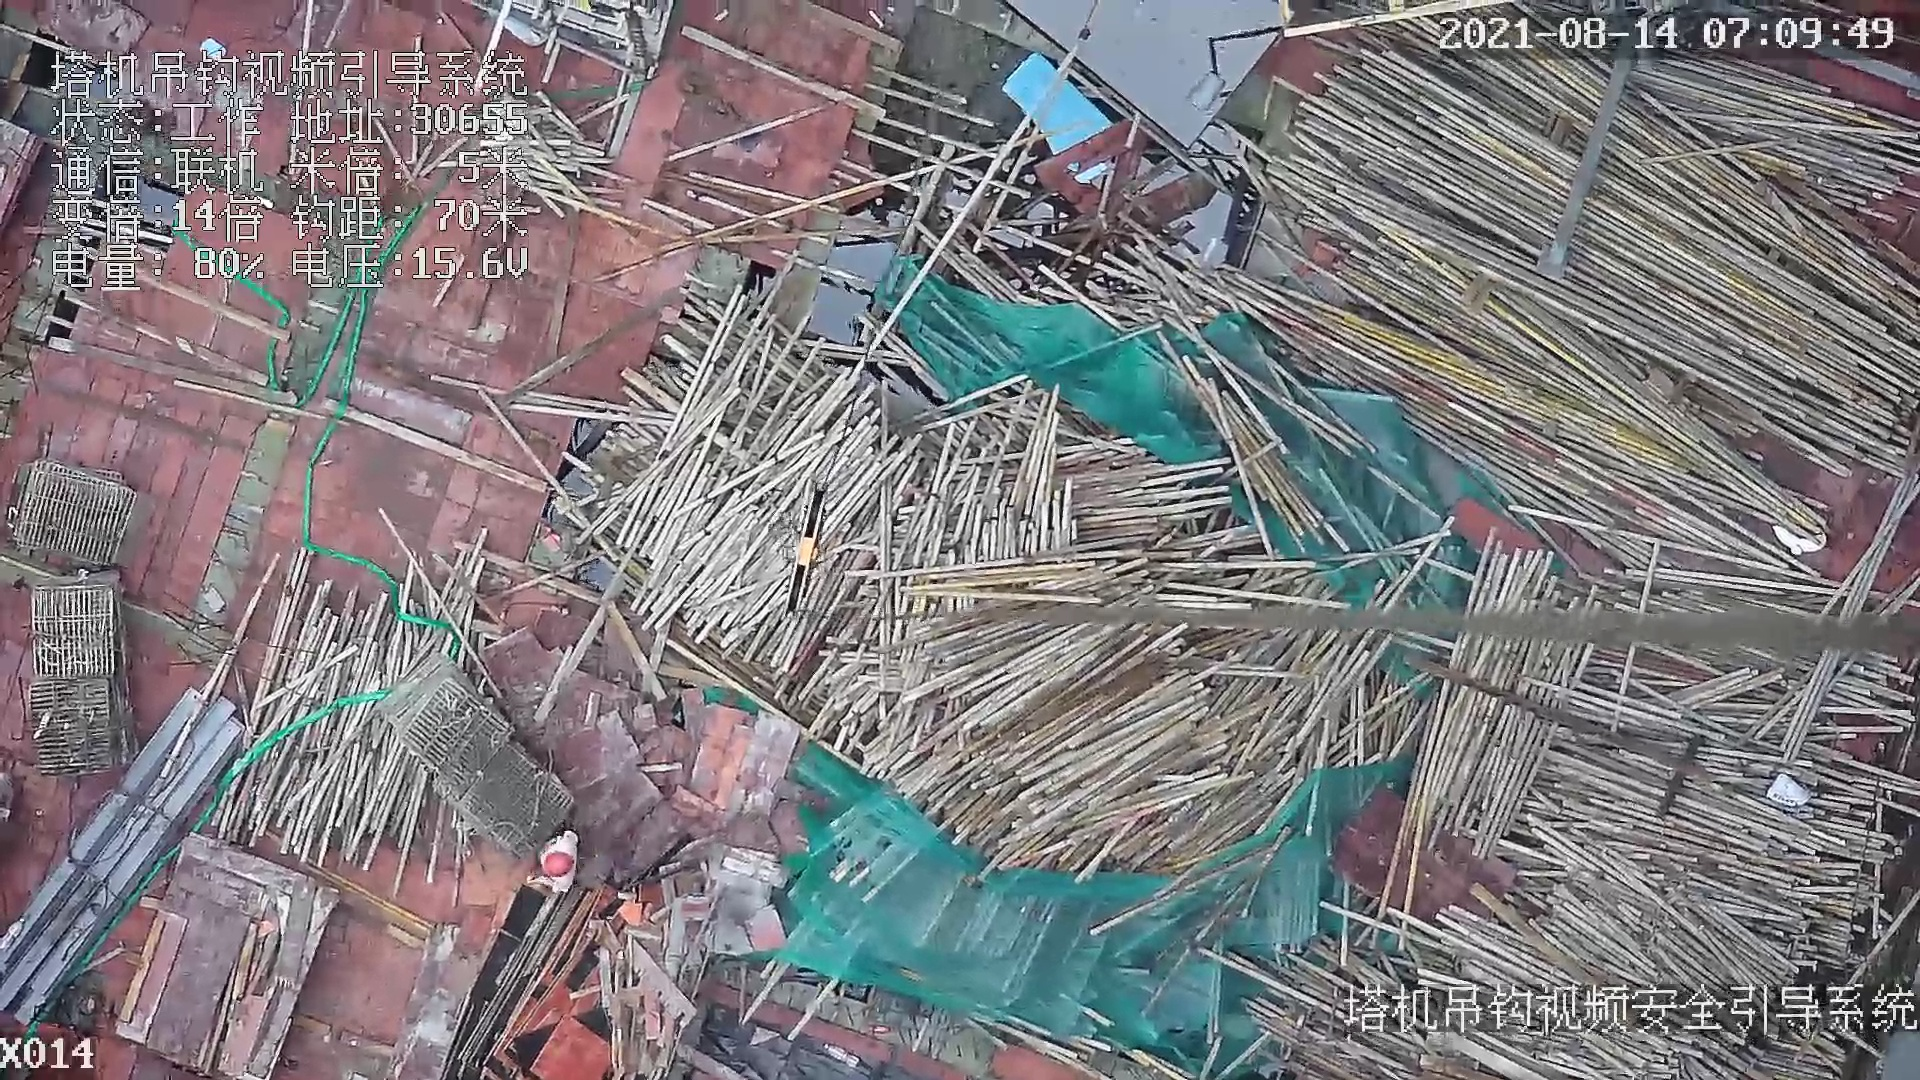helmet: (545, 851, 575, 877)
hook: (782, 478, 824, 618)
person: (528, 826, 591, 895)
